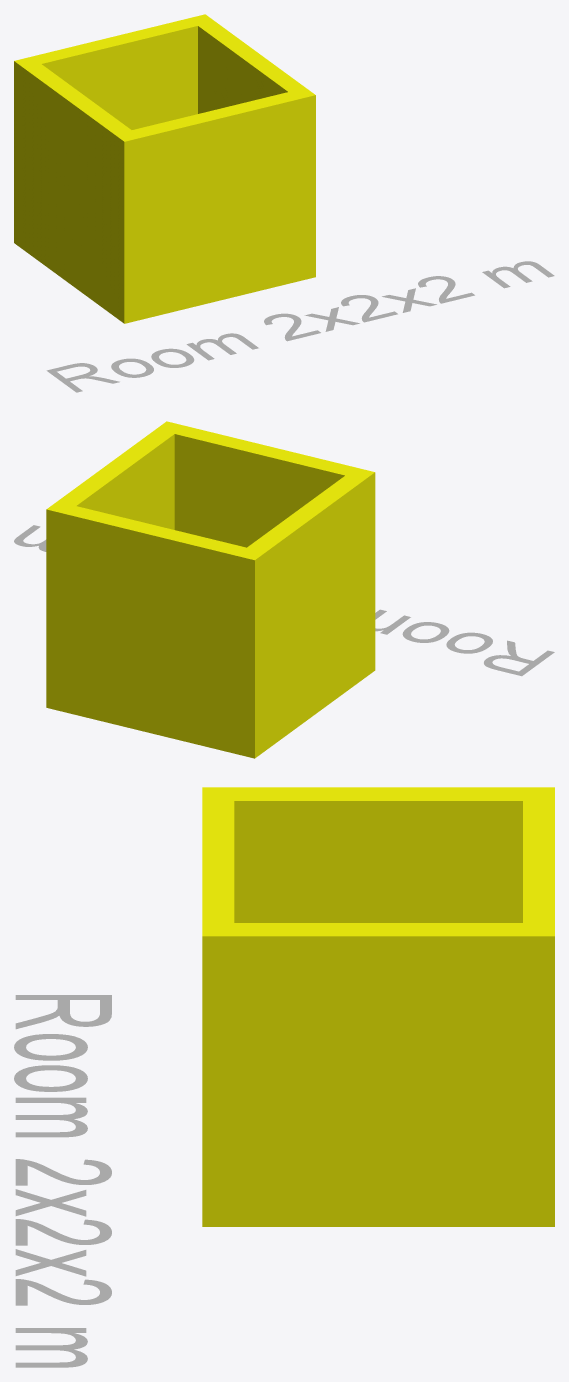
File: RevitWallsRoom2x2x2m.gltf
3 renders of one model, top to bottom at view 1: azimuth 30°, elevation 25°; view 2: azimuth 150°, elevation 25°; view 3: azimuth 270°, elevation 25°, orthographic. The views are drawn at different scales.
Parts seen in each view (by area): view 1: 27dd0434-7ddd-40ec-8213-b31f1234dc93-00057f18, 27dd0434-7ddd-40ec-8213-b31f1234dc93-00057f17, 27dd0434-7ddd-40ec-8213-b31f1234dc93-00057f1a, 27dd0434-7ddd-40ec-8213-b31f1234dc93-00057f19, 27dd0434-7ddd-40ec-8213-b31f1234dc93-00057f29; view 2: 27dd0434-7ddd-40ec-8213-b31f1234dc93-00057f1a, 27dd0434-7ddd-40ec-8213-b31f1234dc93-00057f17, 27dd0434-7ddd-40ec-8213-b31f1234dc93-00057f18, 27dd0434-7ddd-40ec-8213-b31f1234dc93-00057f19, 27dd0434-7ddd-40ec-8213-b31f1234dc93-00057f29; view 3: 27dd0434-7ddd-40ec-8213-b31f1234dc93-00057f19, 27dd0434-7ddd-40ec-8213-b31f1234dc93-00057f17, 27dd0434-7ddd-40ec-8213-b31f1234dc93-00057f18, 27dd0434-7ddd-40ec-8213-b31f1234dc93-00057f29, 27dd0434-7ddd-40ec-8213-b31f1234dc93-00057f1a.
Part boxes in pixels (x1,y1,x2,y2): 27dd0434-7ddd-40ec-8213-b31f1234dc93-00057f18: [132, 88, 315, 319]; 27dd0434-7ddd-40ec-8213-b31f1234dc93-00057f17: [24, 64, 141, 323]; 27dd0434-7ddd-40ec-8213-b31f1234dc93-00057f1a: [14, 18, 197, 249]; 27dd0434-7ddd-40ec-8213-b31f1234dc93-00057f19: [188, 14, 305, 113]; 27dd0434-7ddd-40ec-8213-b31f1234dc93-00057f29: [46, 261, 554, 392]; 27dd0434-7ddd-40ec-8213-b31f1234dc93-00057f1a: [65, 506, 265, 758]; 27dd0434-7ddd-40ec-8213-b31f1234dc93-00057f17: [247, 467, 375, 750]; 27dd0434-7ddd-40ec-8213-b31f1234dc93-00057f18: [156, 421, 355, 547]; 27dd0434-7ddd-40ec-8213-b31f1234dc93-00057f19: [46, 429, 174, 712]; 27dd0434-7ddd-40ec-8213-b31f1234dc93-00057f29: [14, 525, 554, 676]; 27dd0434-7ddd-40ec-8213-b31f1234dc93-00057f19: [234, 923, 554, 1226]; 27dd0434-7ddd-40ec-8213-b31f1234dc93-00057f17: [202, 787, 522, 922]; 27dd0434-7ddd-40ec-8213-b31f1234dc93-00057f18: [202, 801, 234, 1226]; 27dd0434-7ddd-40ec-8213-b31f1234dc93-00057f29: [14, 995, 111, 1367]; 27dd0434-7ddd-40ec-8213-b31f1234dc93-00057f1a: [523, 787, 554, 922].
Bounding box in the file's own units: 5.5 × 2 × 3.37.
